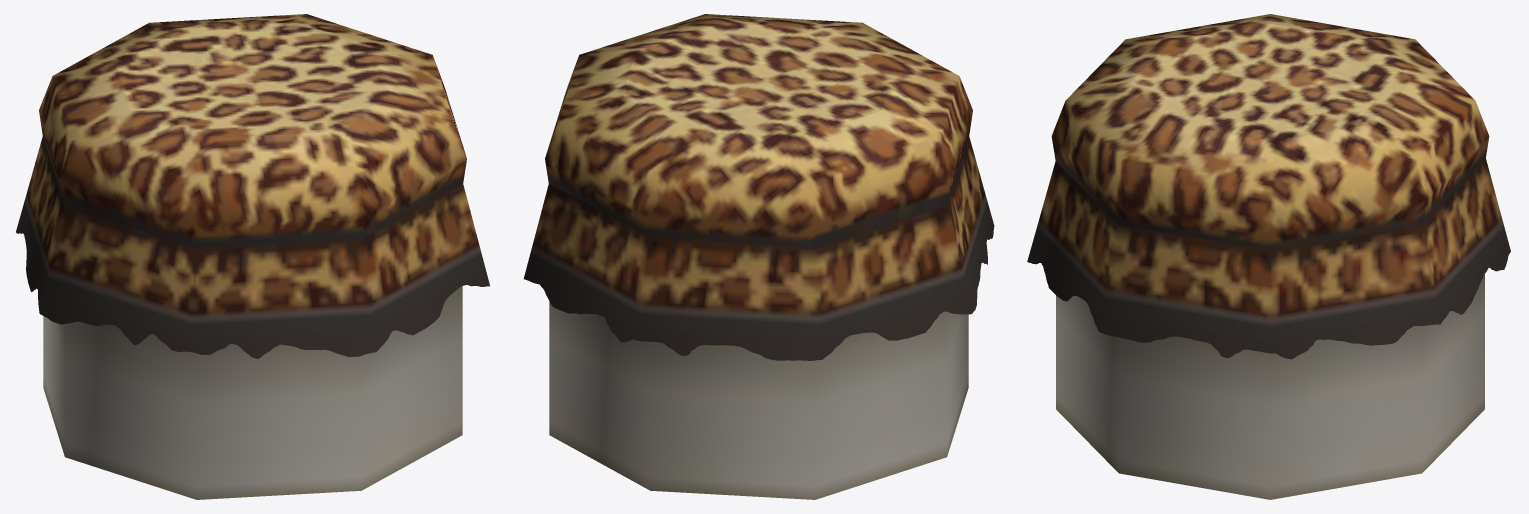
The model's file is furni_0200095.FBX.
3 views of the same model, side by side, from view 1: azimuth 30°, elevation 25°; view 2: azimuth 150°, elevation 25°; view 3: azimuth 270°, elevation 25° (orthographic).
Parts seen in each view (by area): view 1: furni_0200095; view 2: furni_0200095; view 3: furni_0200095.
Boxes of the visible parts, left/top/right/bottom form: furni_0200095: left=16, top=14, right=489, bottom=499; furni_0200095: left=523, top=14, right=994, bottom=499; furni_0200095: left=1027, top=14, right=1510, bottom=499.
Bounding box in the file's own units: 61 × 45 × 61.
